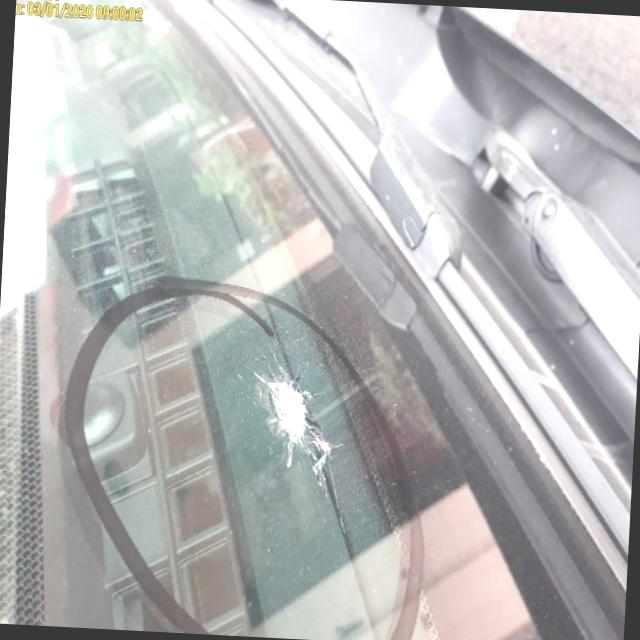Fissure: (233, 344, 349, 478)
